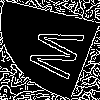W: (25, 24, 97, 83)
